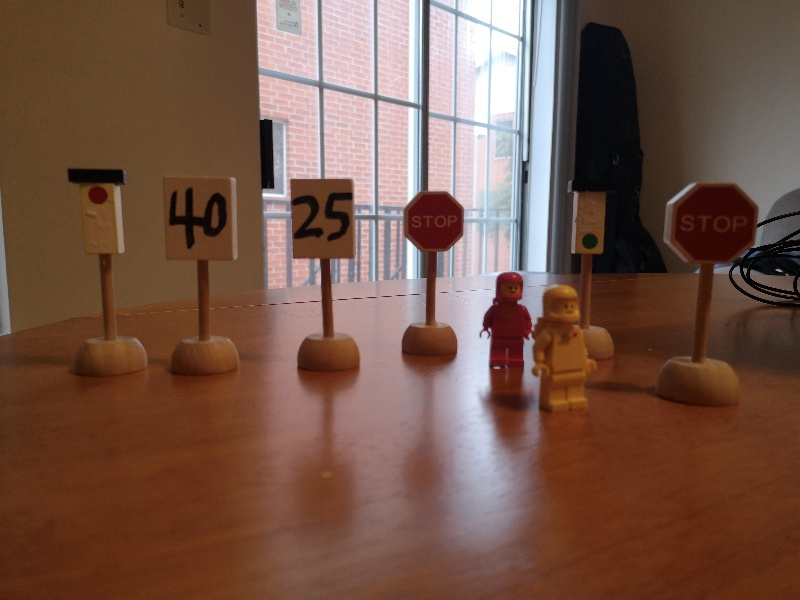Green Traffic Light: (567, 179, 612, 256)
Person: (534, 285, 601, 413), (477, 272, 532, 370)
Red Traffic Light: (65, 168, 131, 256)
Speed Limit 25: (289, 177, 357, 261)
Speed Limit 40: (160, 174, 238, 265)
Stop Sign: (663, 180, 758, 268), (401, 188, 466, 254)
